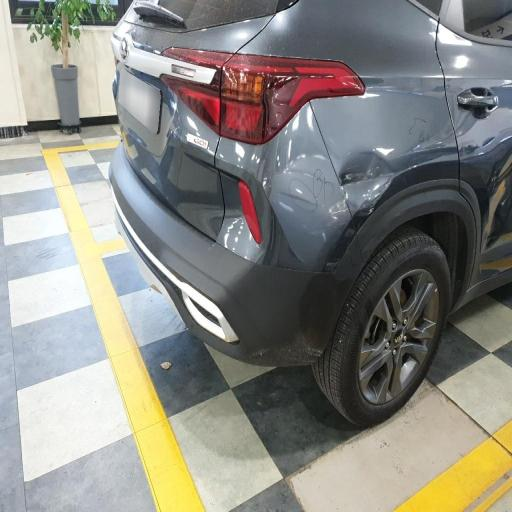dent: (334, 120, 408, 218)
scratch: (262, 102, 349, 246)
